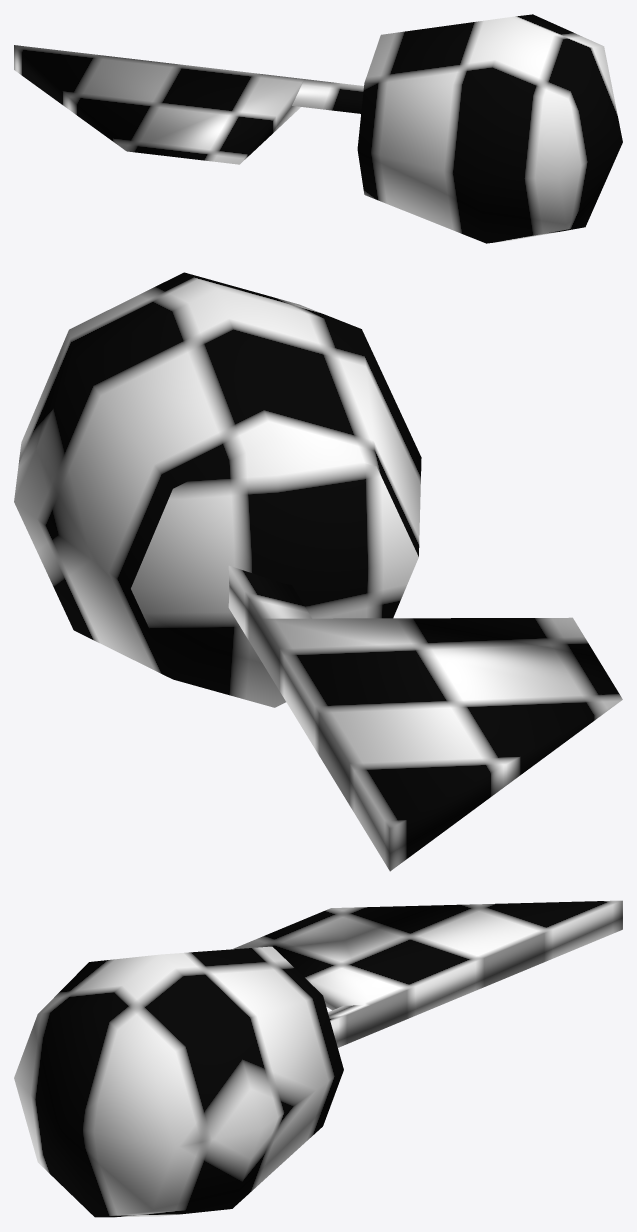
Rendered from initqu4.dae.
3 renders of one model, top to bottom at view 1: azimuth 30°, elevation 25°; view 2: azimuth 150°, elevation 25°; view 3: azimuth 270°, elevation 25°, orthographic. The views are drawn at different scales.
Parts seen in each view (by area): view 1: item; view 2: item; view 3: item.
Part boxes in pixels (bbox=[...]): item: bbox=[14, 14, 622, 243]; item: bbox=[14, 272, 622, 871]; item: bbox=[14, 900, 622, 1217].
Size of the model in its own units: 0.8924 by 0.9589 by 0.4552.
1 material, 1 textured.
